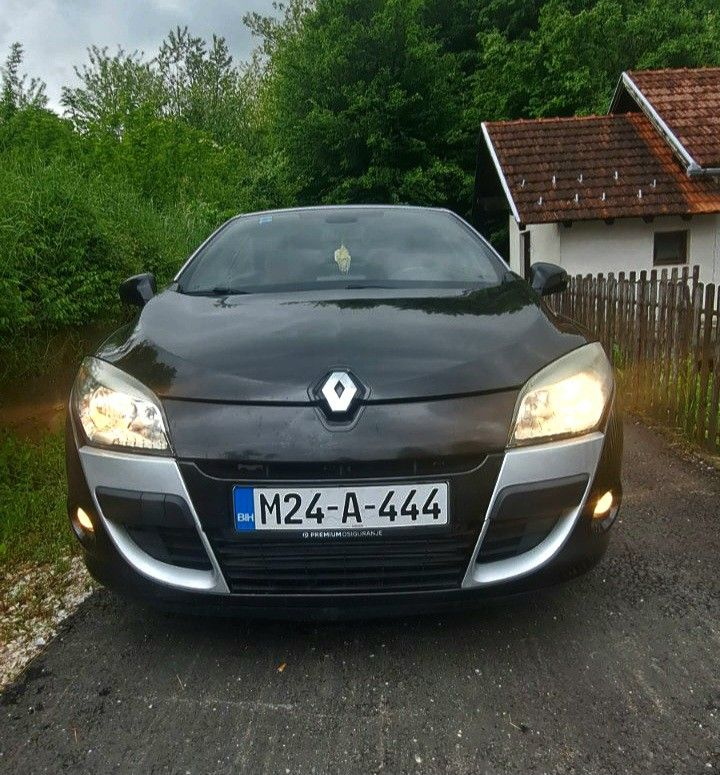plate: (230, 478, 449, 537)
